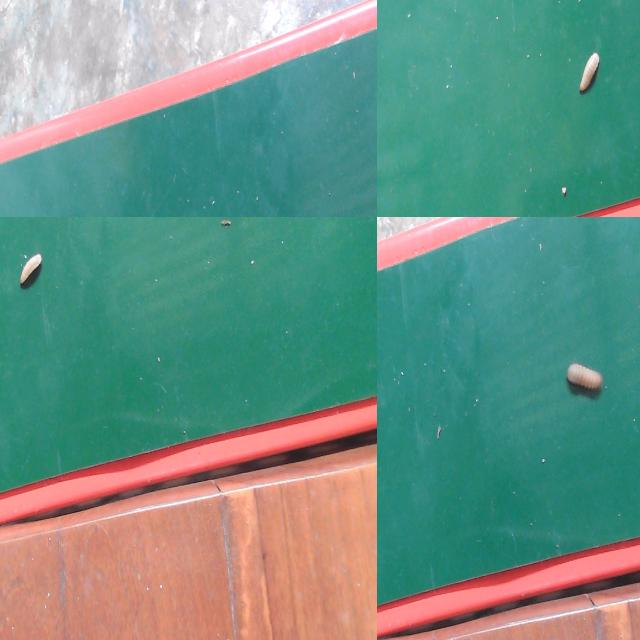Maggot: (565, 364, 604, 400), (18, 251, 45, 290), (578, 54, 600, 95)
